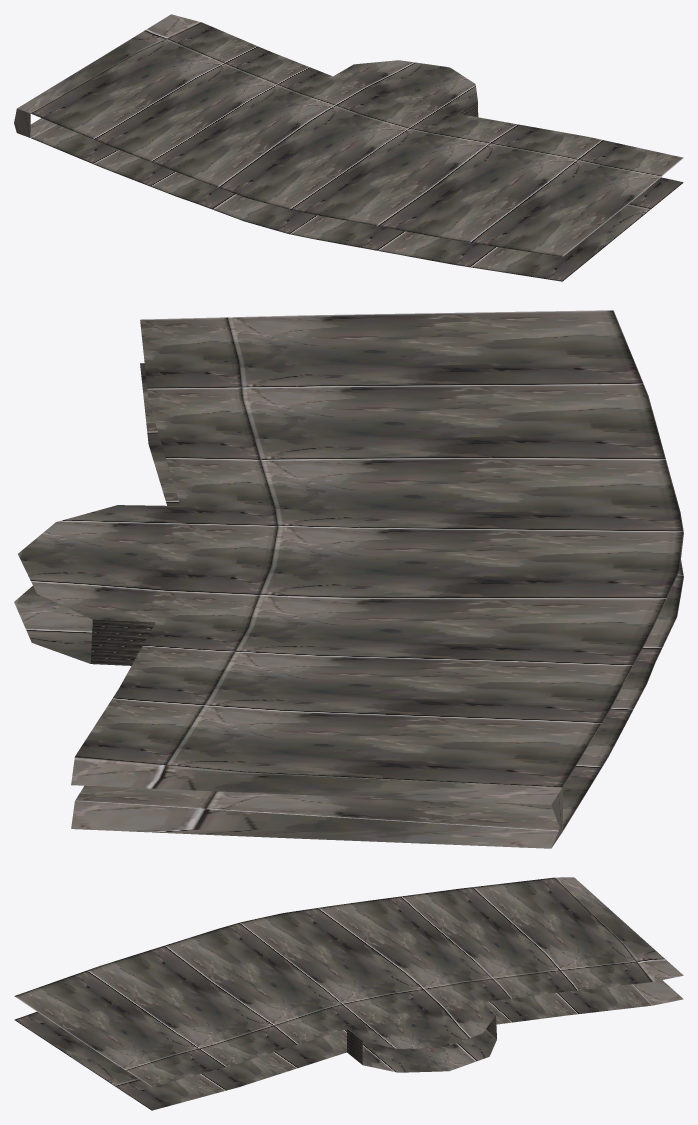
The model's file is CH09_SMAUG_PLAYSURFACE_LAIR133.fbx.
3 renders of one model, top to bottom at view 1: azimuth 30°, elevation 25°; view 2: azimuth 150°, elevation 25°; view 3: azimuth 270°, elevation 25°, orthographic. The views are drawn at different scales.
Parts seen in each view (by area): view 1: CH09_SMAUG_PLAYSURFACE_LAIR133; view 2: CH09_SMAUG_PLAYSURFACE_LAIR133; view 3: CH09_SMAUG_PLAYSURFACE_LAIR133.
Part boxes in pixels (box(x1,y1,x2,y2)): CH09_SMAUG_PLAYSURFACE_LAIR133: box(14, 14, 683, 281); CH09_SMAUG_PLAYSURFACE_LAIR133: box(14, 310, 683, 848); CH09_SMAUG_PLAYSURFACE_LAIR133: box(14, 877, 683, 1110).
Size of the model in its own units: 117746 by 6463 by 156496.
1 material, 1 textured.
